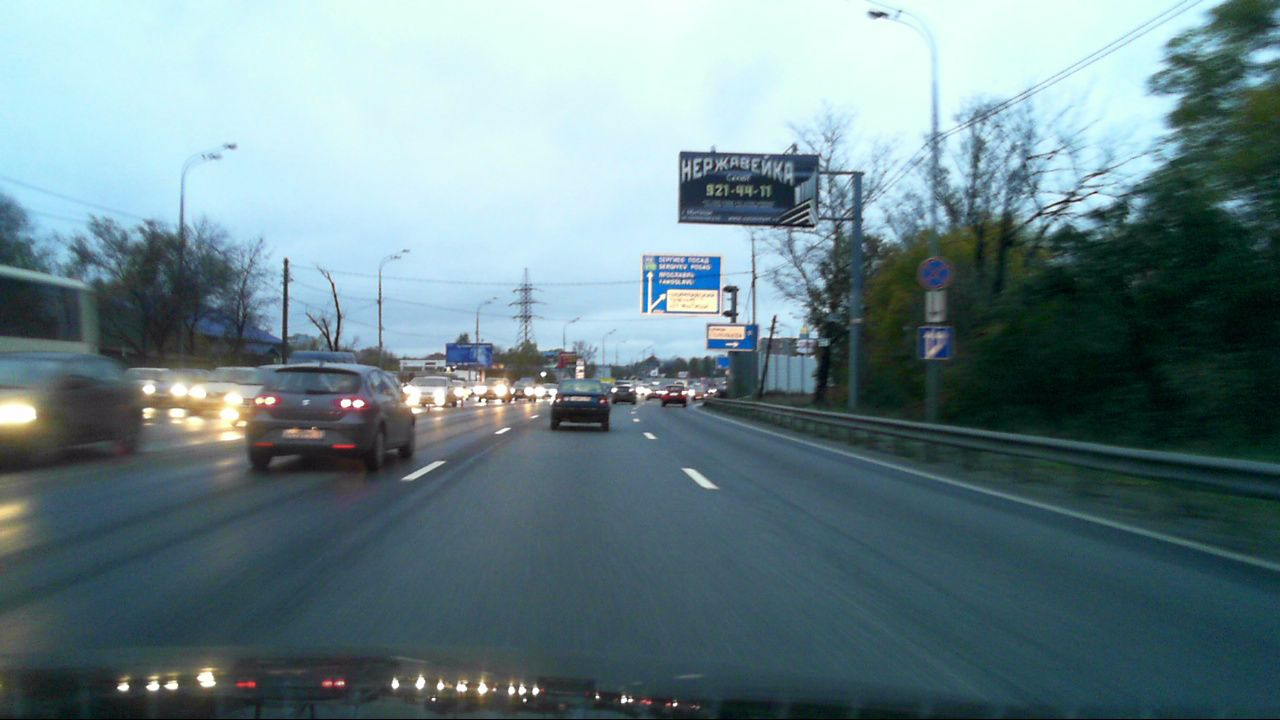No Parking: (917, 258, 949, 291)
